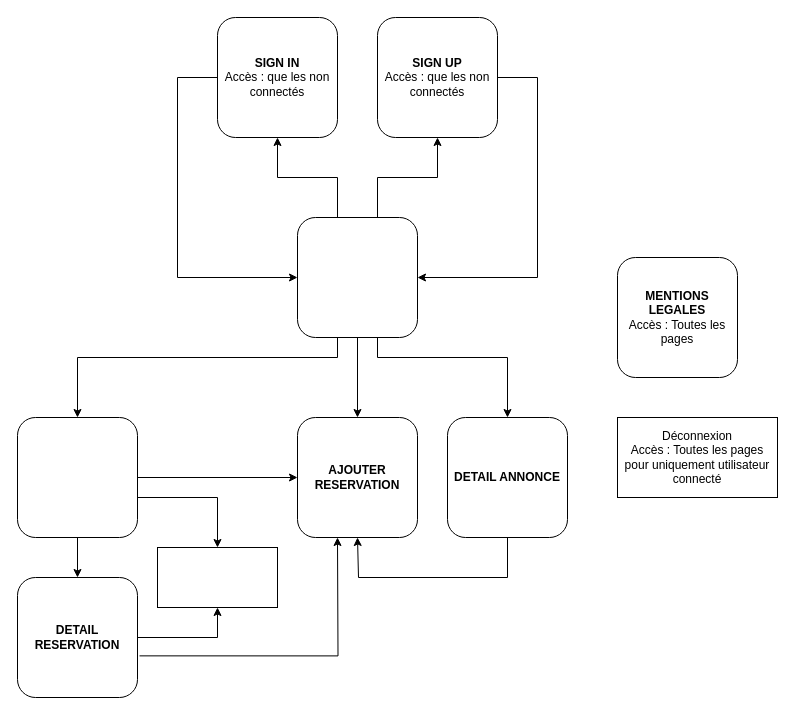
Some shapes in this 795 by 715 pixel diagram are drawn without their labels. The centre of each missing label's shape, as x and y in pixels:
"HOME LISTE ANNONCES" goes at point (357, 277).
"LISTE RESERVATIONS" goes at point (77, 477).
"Suppression de la réservation" goes at point (217, 577).
